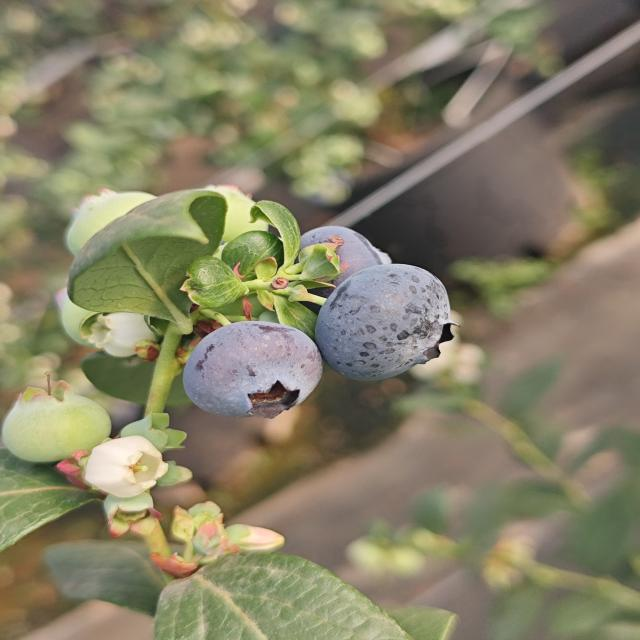ripe: (314, 255, 467, 386), (180, 322, 322, 418), (289, 222, 403, 298)
